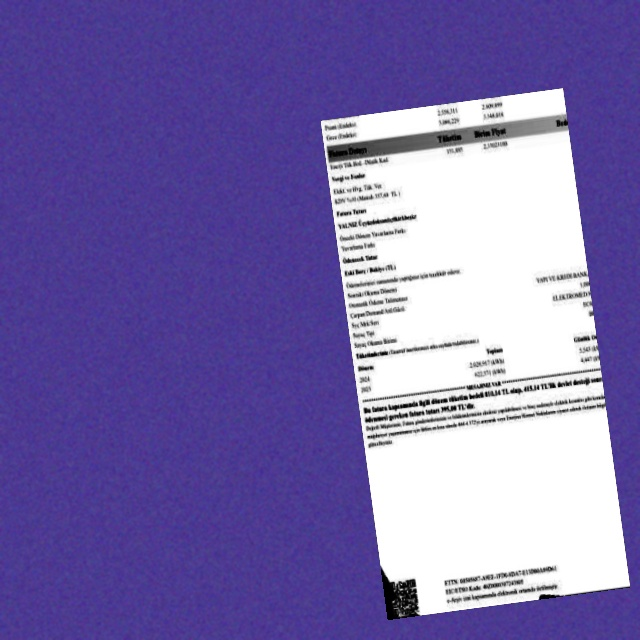electricity-bill: (321, 88, 630, 620)
